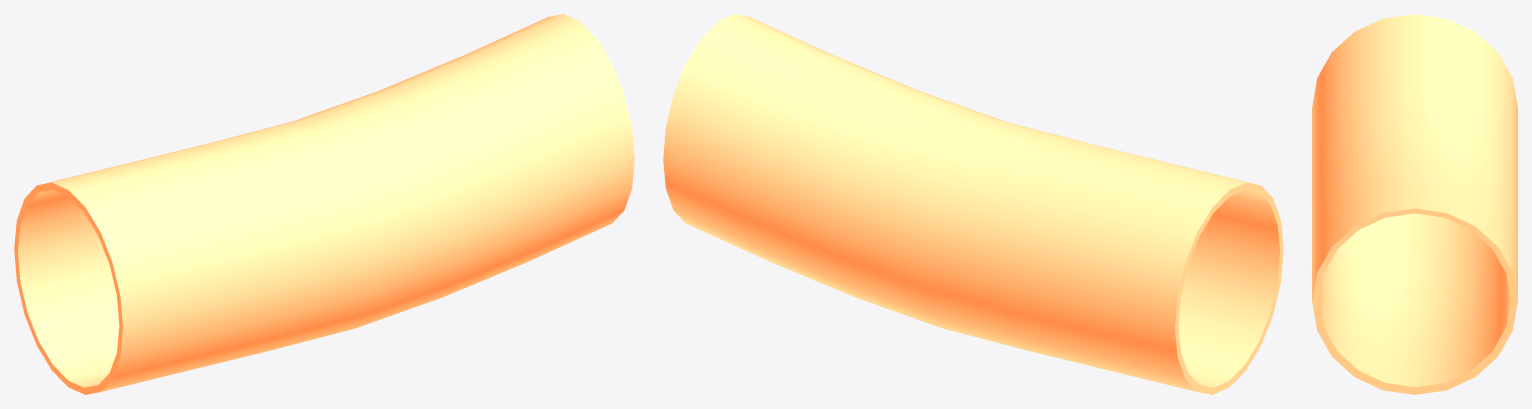
Rendered from SM_PipeMadule4.fbx.
3 renders of one model, left to right at view 1: azimuth 30°, elevation 25°; view 2: azimuth 150°, elevation 25°; view 3: azimuth 270°, elevation 25°, orthographic. The views are drawn at different scales.
Parts seen in each view (by area): view 1: SM_PipeMadule4_LOD0; view 2: SM_PipeMadule4_LOD0; view 3: SM_PipeMadule4_LOD0.
Part boxes in pixels (x1,y1,x2,y2): SM_PipeMadule4_LOD0: (14,14,634,394); SM_PipeMadule4_LOD0: (663,14,1283,394); SM_PipeMadule4_LOD0: (1312,14,1517,394).
Bounding box in the file's own units: 458 × 169 × 206.
